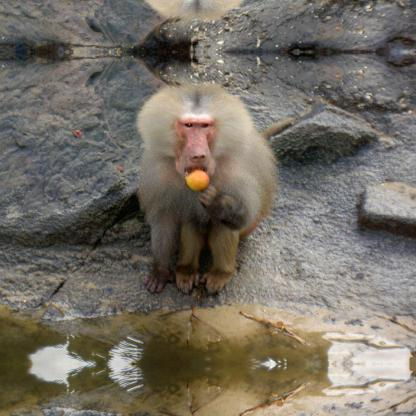Monkey: (138, 79, 278, 291)
